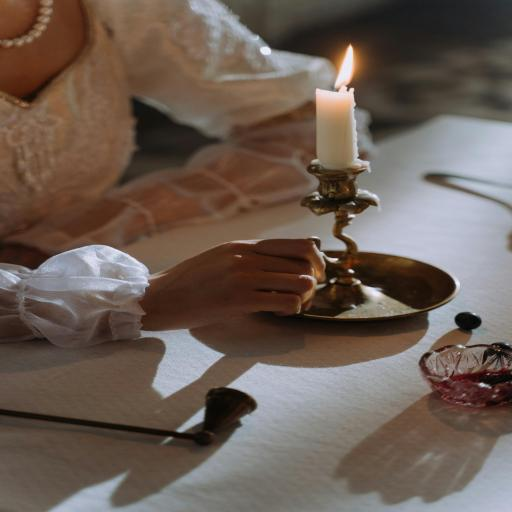candlelight: (309, 18, 385, 216)
